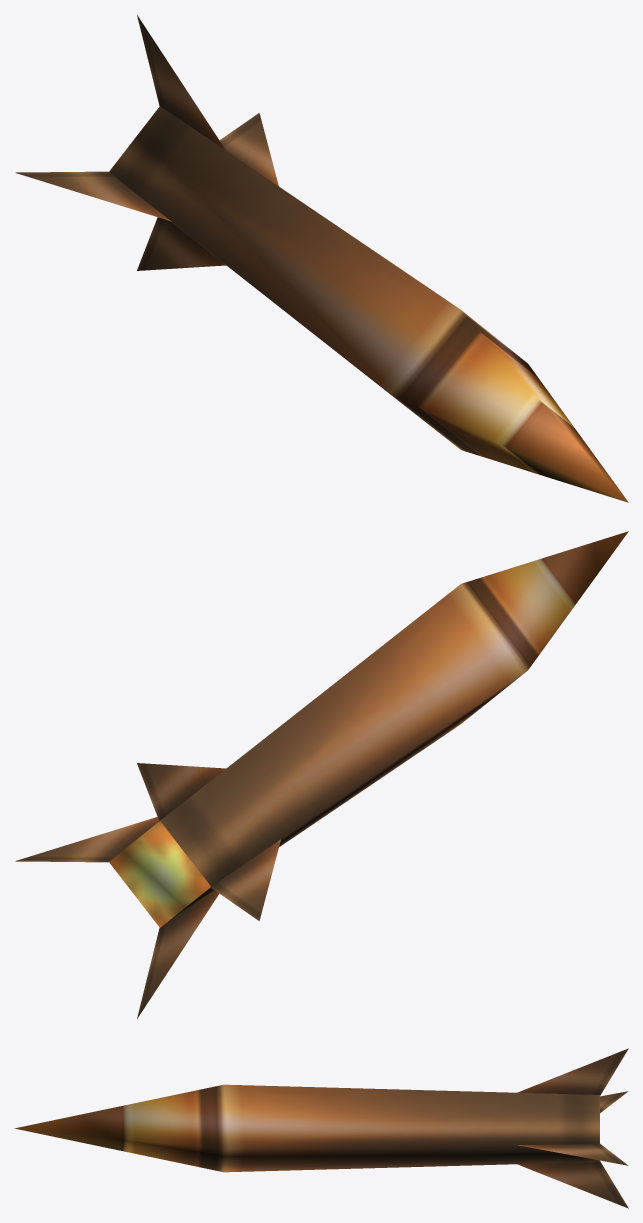
File: missile01.FBX
3 renders of one model, top to bottom at view 1: azimuth 30°, elevation 25°; view 2: azimuth 150°, elevation 25°; view 3: azimuth 270°, elevation 25°, orthographic. The views are drawn at different scales.
Parts seen in each view (by area): view 1: missile01; view 2: missile01; view 3: missile01.
Part boxes in pixels (x1,y1,x2,y2): missile01: (15,15,628,502); missile01: (15,531,628,1018); missile01: (14,1048,628,1208).
Bounding box in the file's own units: 11.78 × 11.78 × 40.93.
